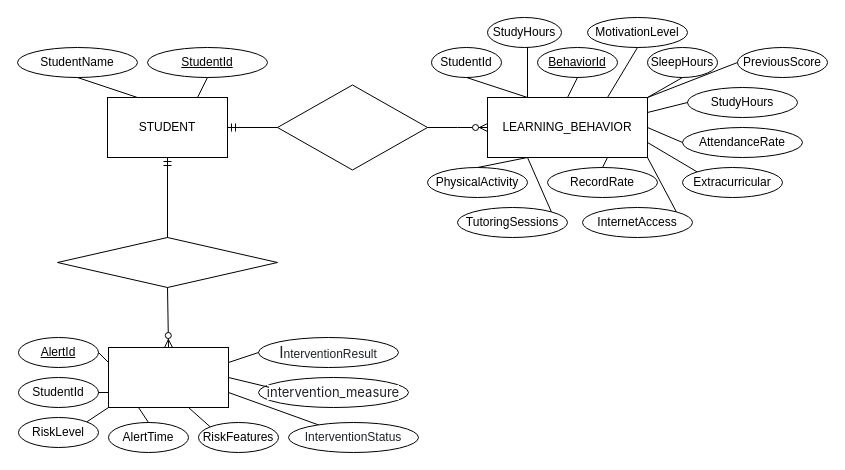
This 845x470 diagram has some shape labels left out. The shapes that lost their labels are listed below. From the top down, each one's centre as x and y in pixels, then its label:
At [352,127]: "Studenthave LearningBehavior".
At [167,262]: "StudentreceiveRiskAlert".
At [168,377]: "RISK_ALERT".
